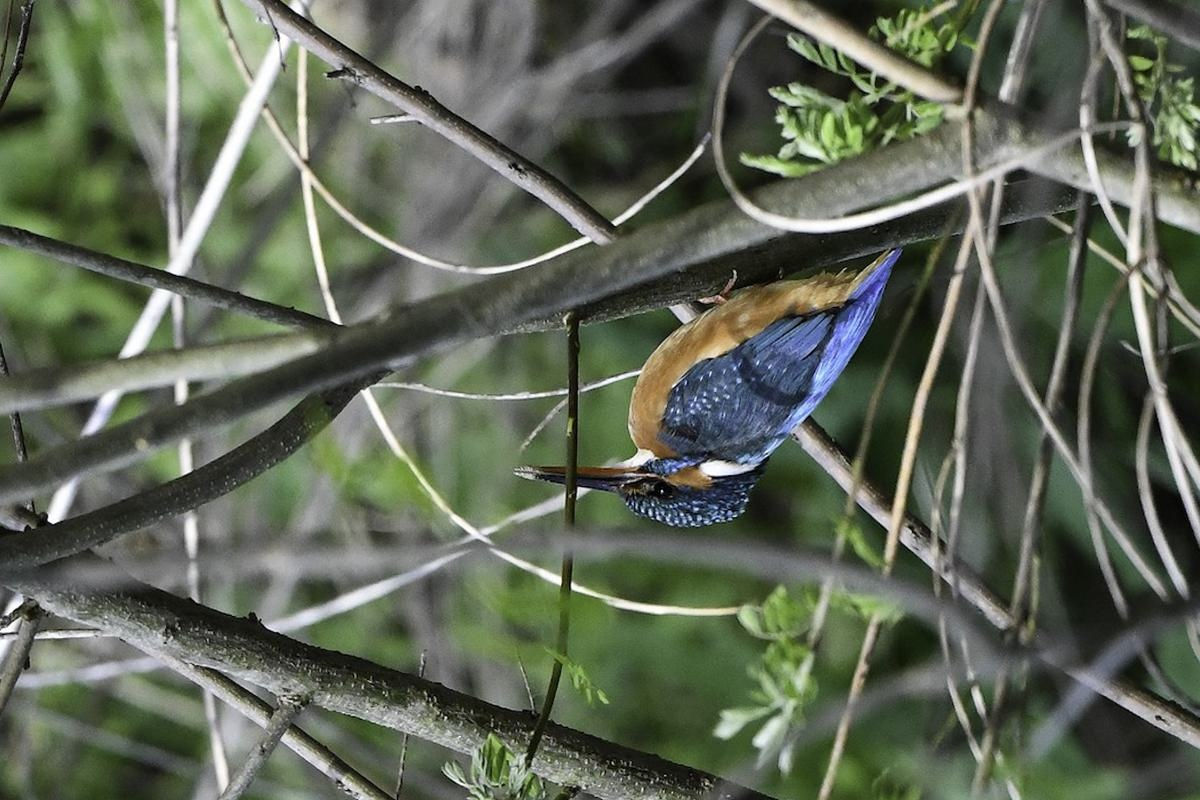kingfisher: (509, 242, 928, 530)
